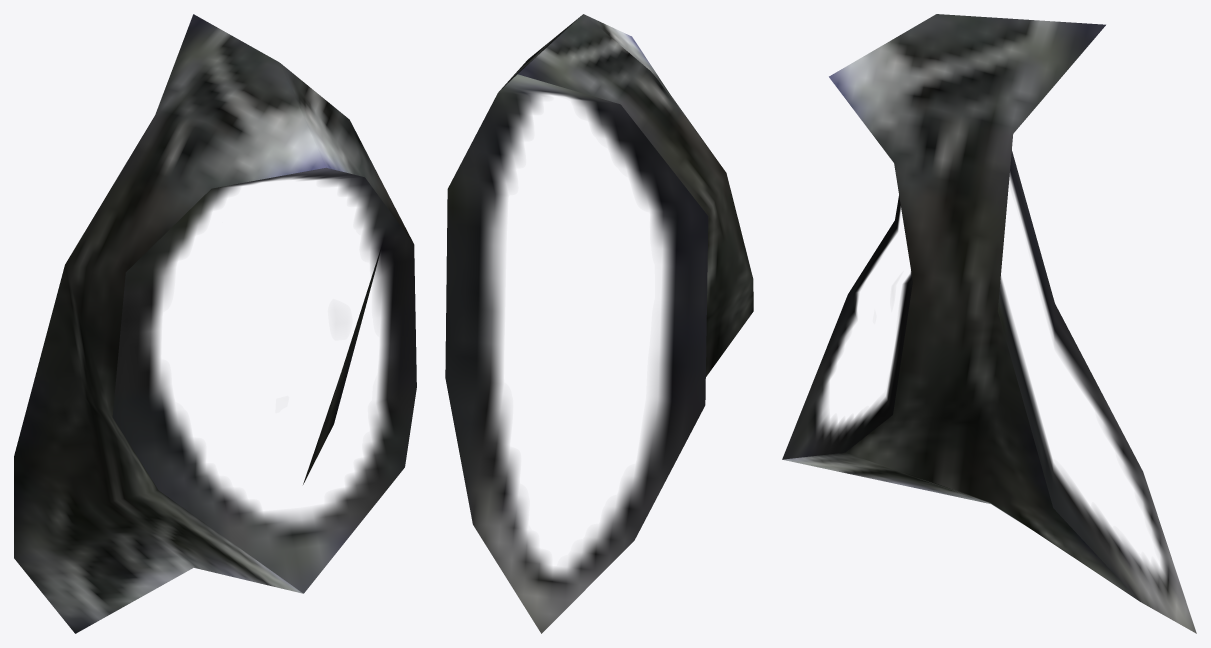
File: shadow_pawn_7_ankle_right.glb
3 views of the same model, side by side, from view 1: azimuth 30°, elevation 25°; view 2: azimuth 150°, elevation 25°; view 3: azimuth 270°, elevation 25° (orthographic). The views are drawn at different scales.
Visible parts, largest first — view 1: model_shadow_pawn_7_ankle_right; view 2: model_shadow_pawn_7_ankle_right; view 3: model_shadow_pawn_7_ankle_right.
Part boxes in pixels (x1,y1,x2,y2): model_shadow_pawn_7_ankle_right: [14, 14, 416, 633]; model_shadow_pawn_7_ankle_right: [445, 14, 753, 633]; model_shadow_pawn_7_ankle_right: [782, 14, 1196, 633].
Size of the model in its own units: 0.1743 by 0.3134 by 0.1791.
Materials: 1 (1 with a texture image).
